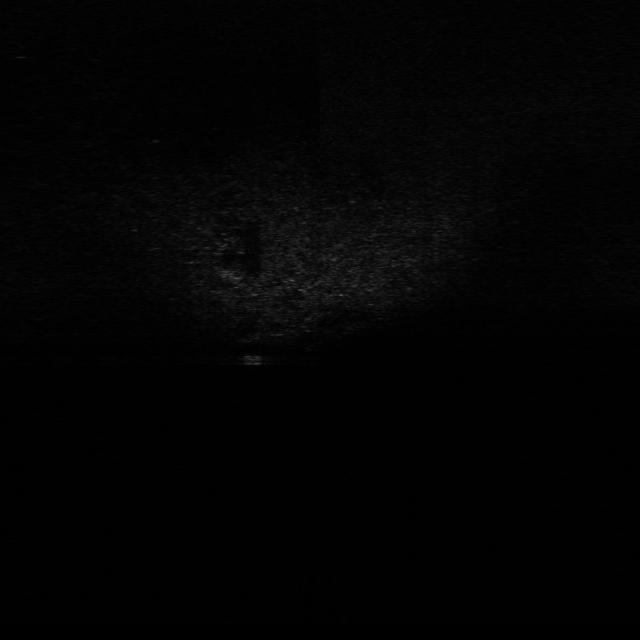cube: (232, 345, 266, 372)
